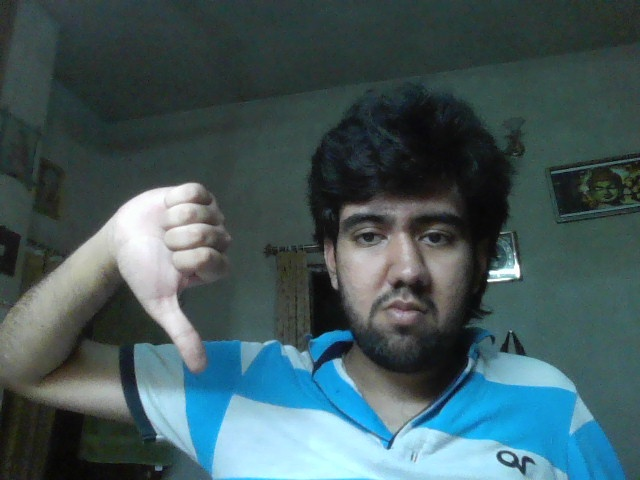NotOk: (113, 182, 232, 372)
